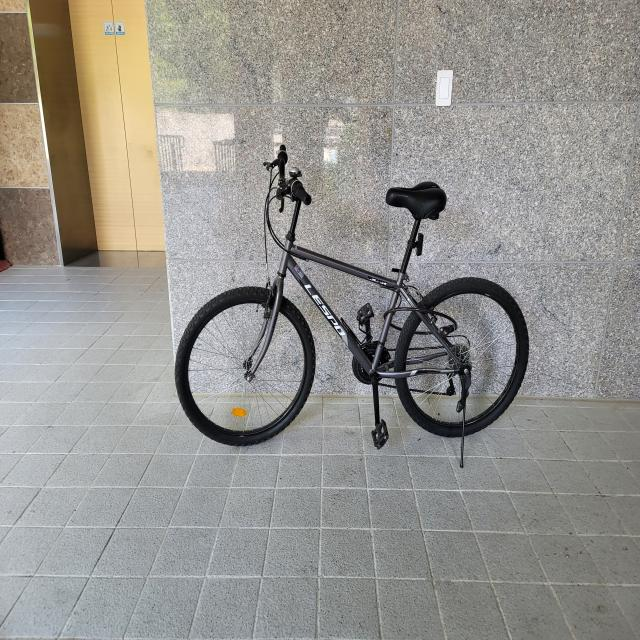bicycle: (174, 143, 530, 467)
